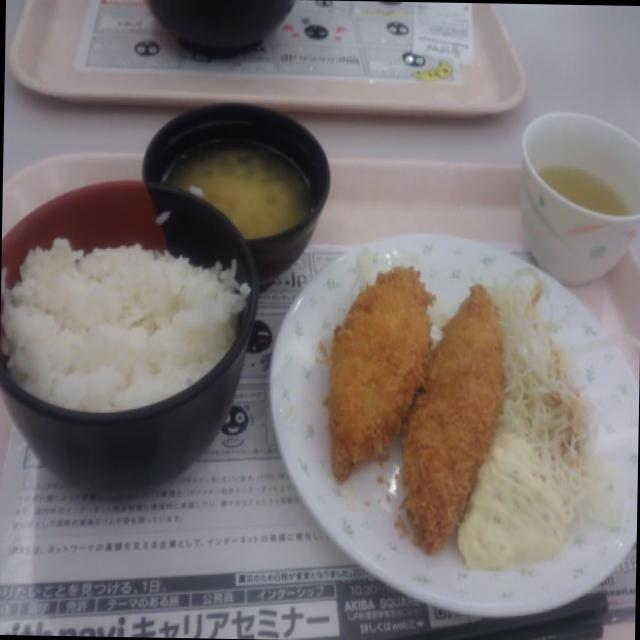Rice: (19, 219, 228, 421)
